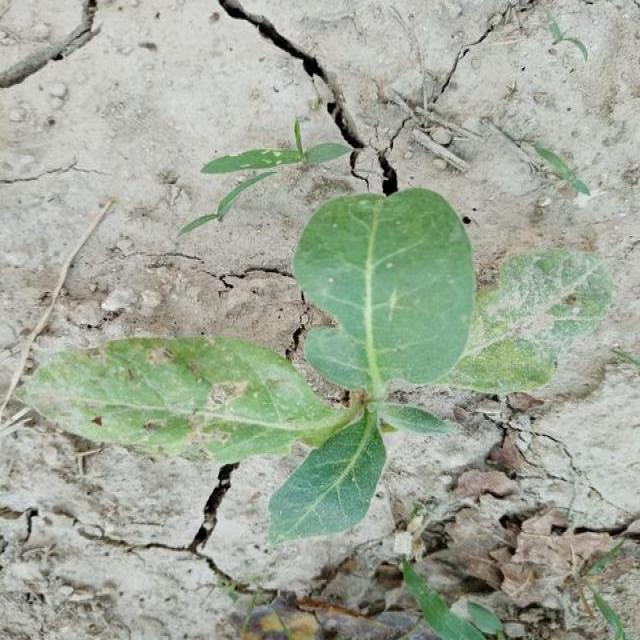crop: (23, 193, 609, 640)
